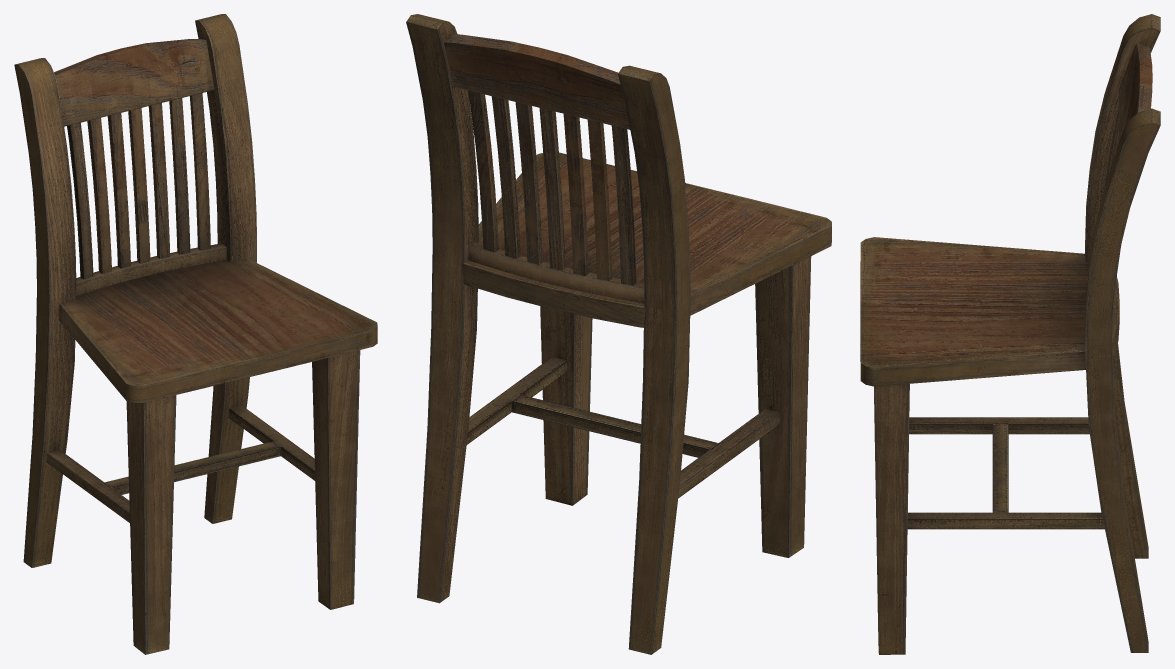
Rendered from Chair 1.fbx.
3 views of the same model, side by side, from view 1: azimuth 30°, elevation 25°; view 2: azimuth 150°, elevation 25°; view 3: azimuth 270°, elevation 25° (orthographic). The views are drawn at different scales.
Parts seen in each view (by area): view 1: chair; view 2: chair; view 3: chair.
Boxes of the visible parts, x1,y1,x2,y2 form: chair: (14,14,377,654); chair: (406,14,831,654); chair: (860,14,1160,654).
Size of the model in its own units: 455 by 862 by 440.
